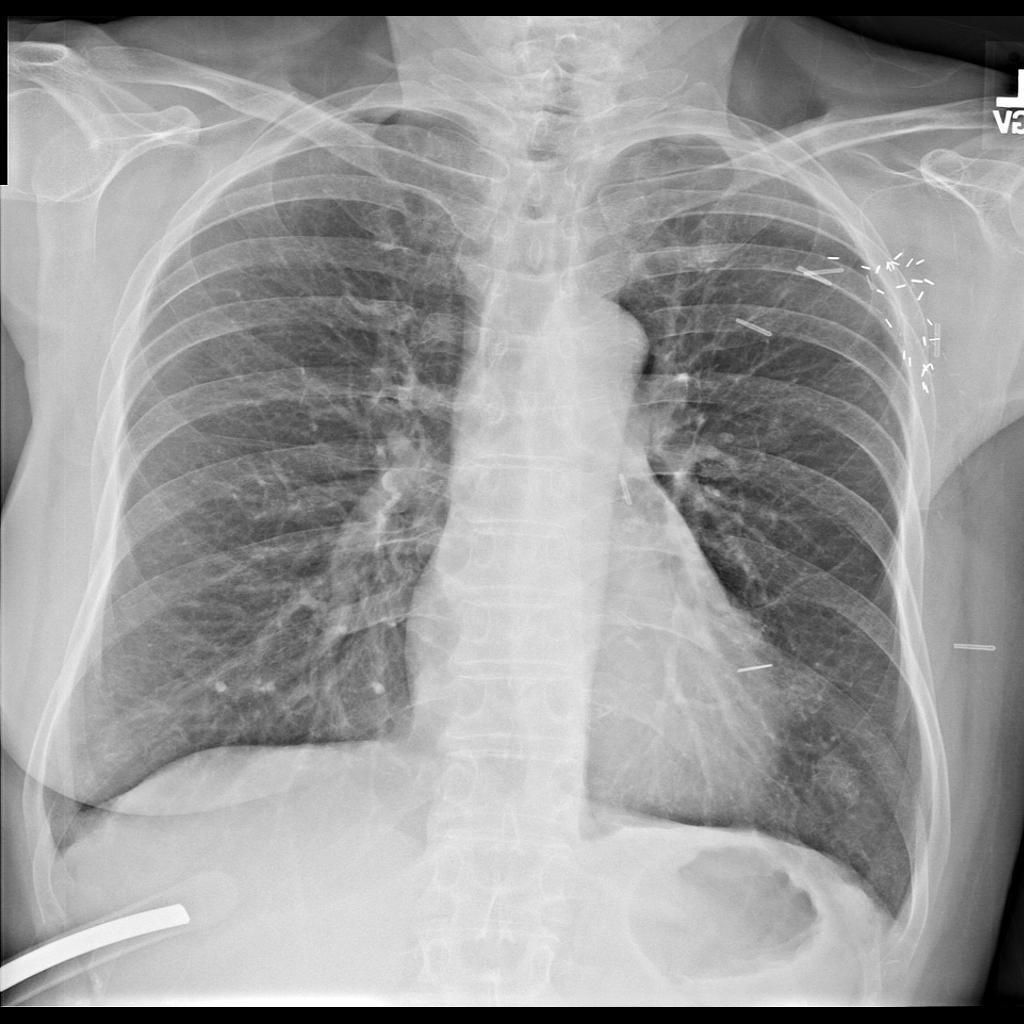Nodule: (740, 399, 811, 467)
